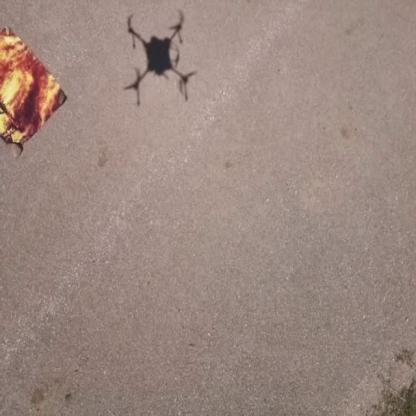fire-poster: (0, 24, 68, 156)
